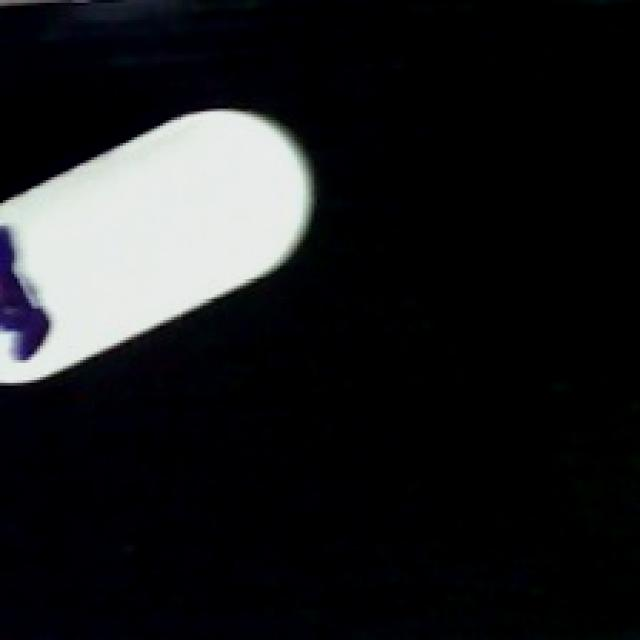defected: (0, 97, 320, 392)
